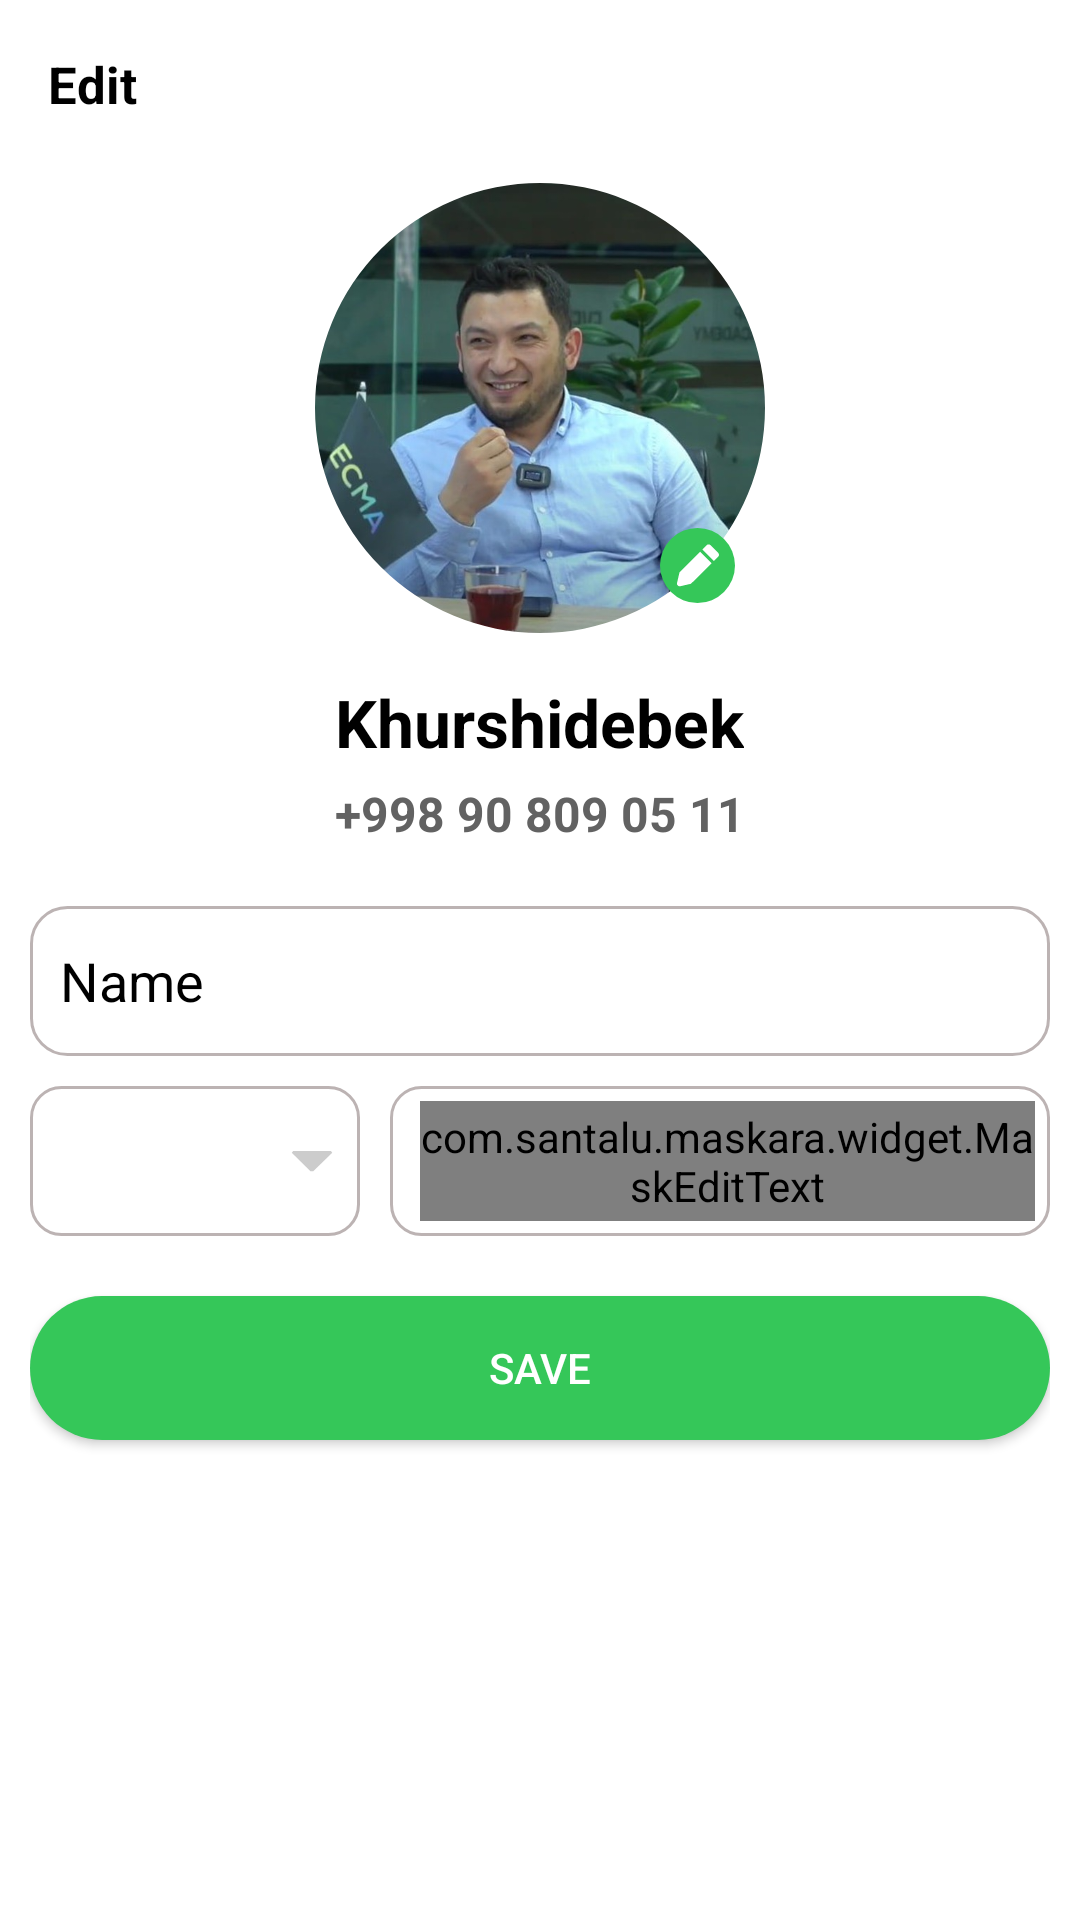

Where icons sit on this 1080 x 1920 app screen, as region(x1, y1, x2, y2):
drop down menu: region(292, 1151, 332, 1171)
